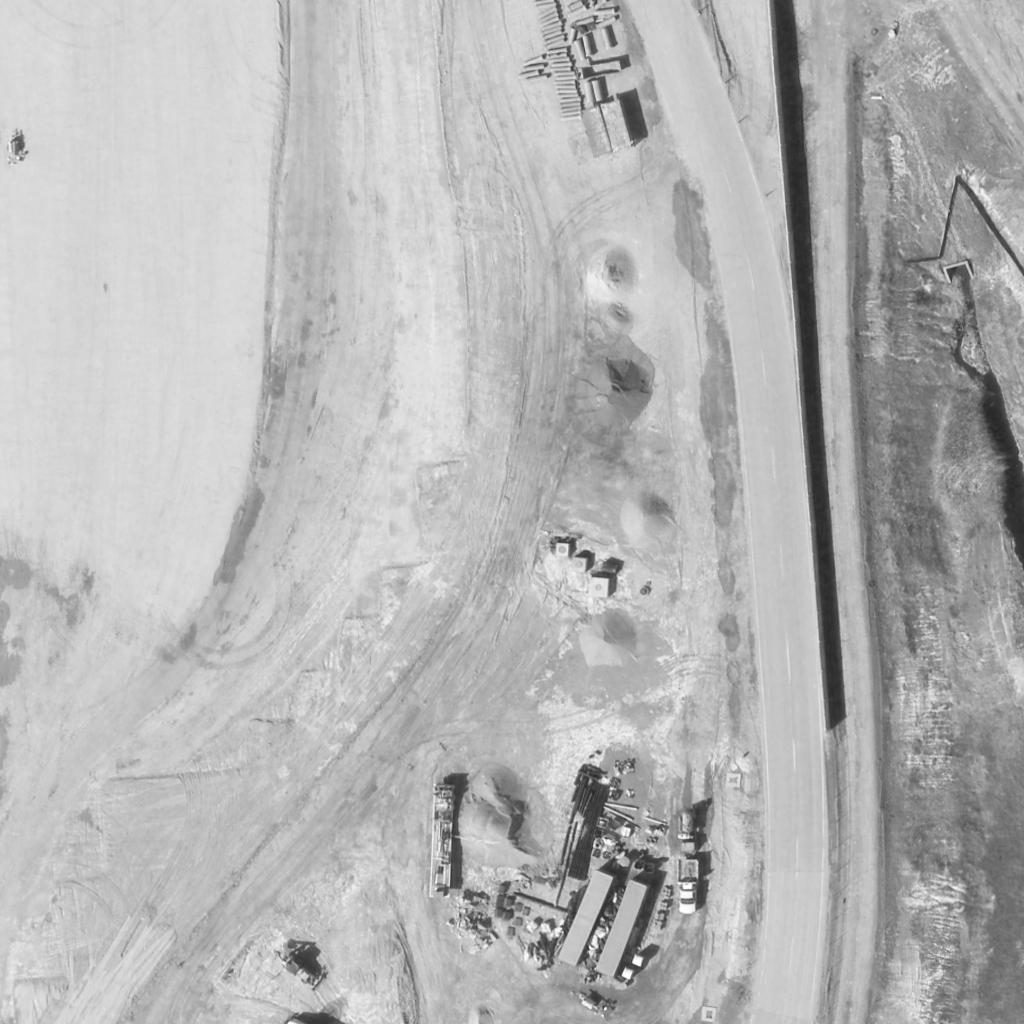vehicle: (675, 859, 705, 917)
